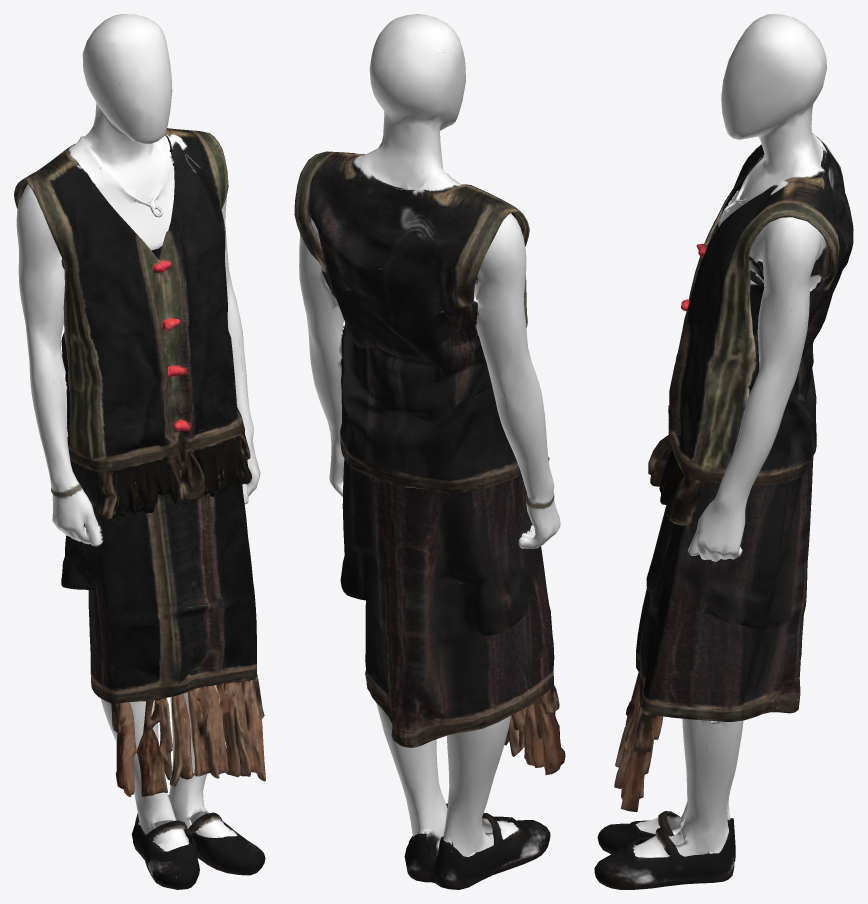
The model's file is M_nong_nam_00001.glb.
The picture shows the model from 3 angles, left to right: view 1: azimuth 30°, elevation 25°; view 2: azimuth 150°, elevation 25°; view 3: azimuth 270°, elevation 25°; orthographic projection. The views are drawn at different scales.
Size of the model in its own units: 0.2519 by 0.9361 by 0.2599.
1 material, 1 textured.
